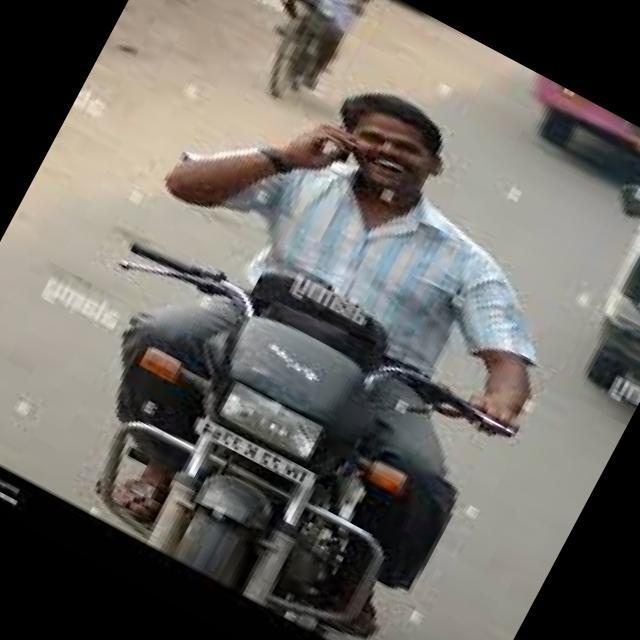USING_MOBILE: (159, 58, 368, 262)
